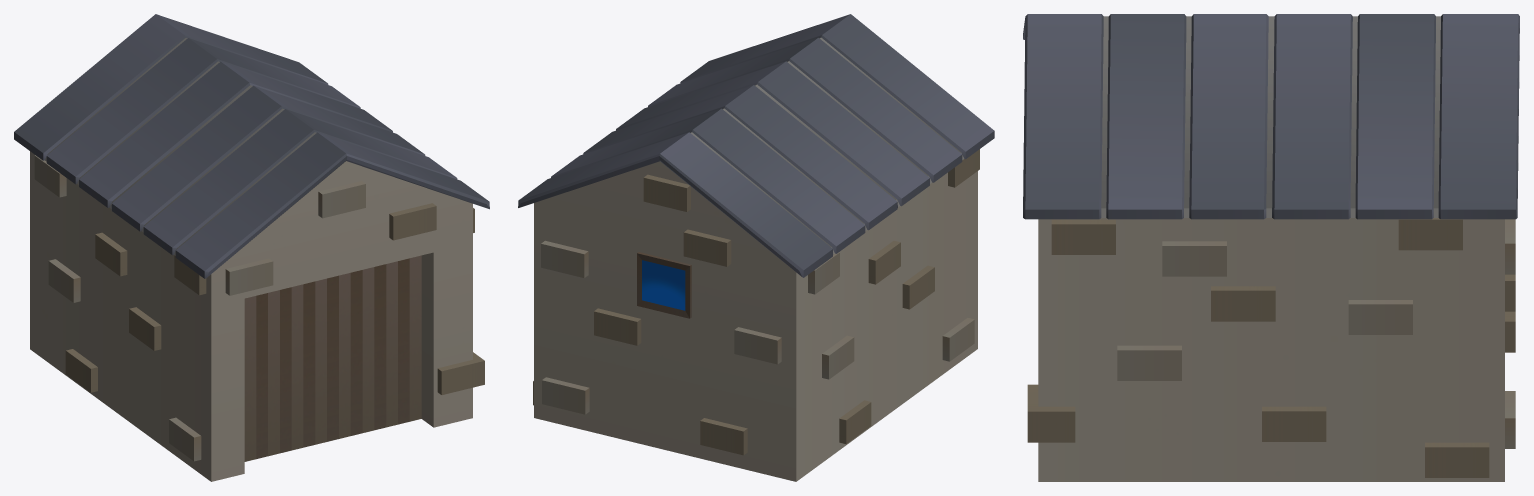
Rendered from SM_Garrage_1.FBX.
3 views of the same model, side by side, from view 1: azimuth 30°, elevation 25°; view 2: azimuth 150°, elevation 25°; view 3: azimuth 270°, elevation 25° (orthographic). The views are drawn at different scales.
Visible parts, largest first — view 1: SM_Garrage_1; view 2: SM_Garrage_1; view 3: SM_Garrage_1.
Part boxes in pixels (box(x1,y1,x2,y2)): SM_Garrage_1: box(14, 14, 489, 481); SM_Garrage_1: box(518, 14, 994, 481); SM_Garrage_1: box(1023, 14, 1519, 481).
Size of what is drawn, in the model's own units: 381 by 447 by 383.
